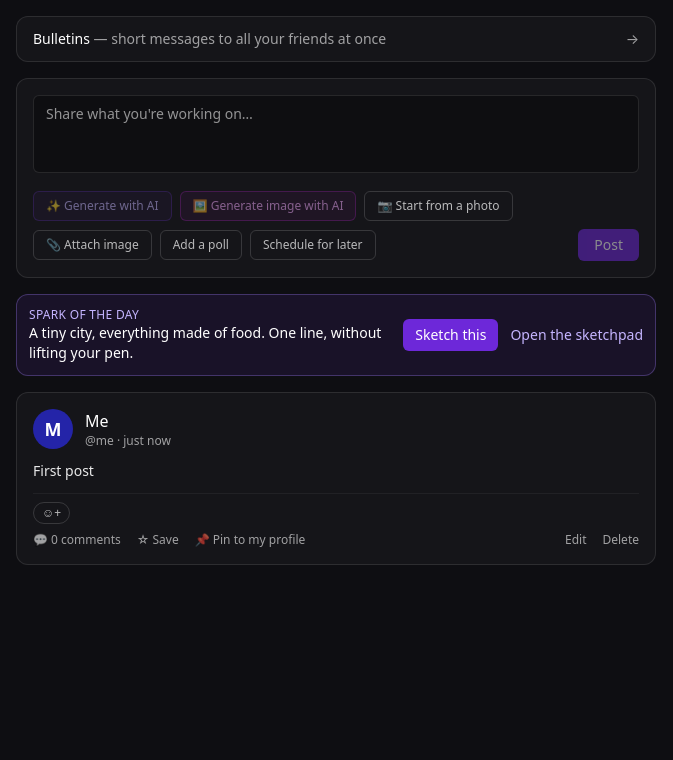
Test: FeedPage › posts from the composer and puts the new post first
Check: the text "First post" is shown, box [33,461,94,480]
In the text box with placeholder "Share what you're working on…": [336, 134] box [33,95,639,173], type "  Brand new "
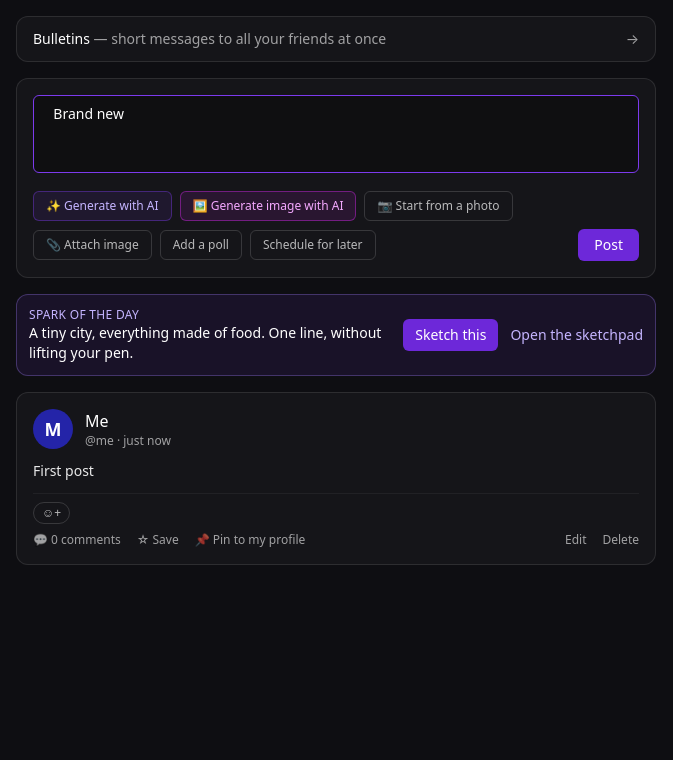
Click the button "Post": [609, 245] box [578,229,639,261]
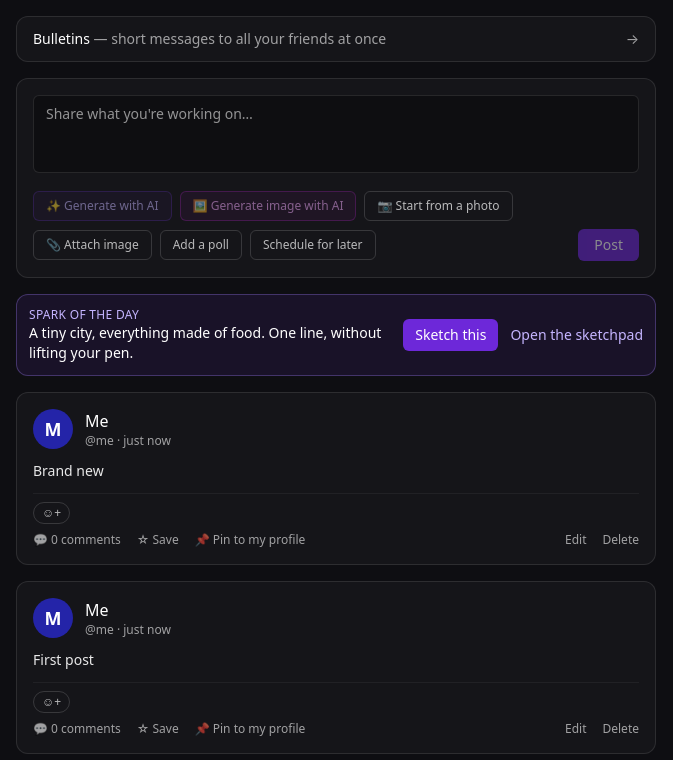
Check: the text "Brand new" is shown, box [33,461,104,480]
